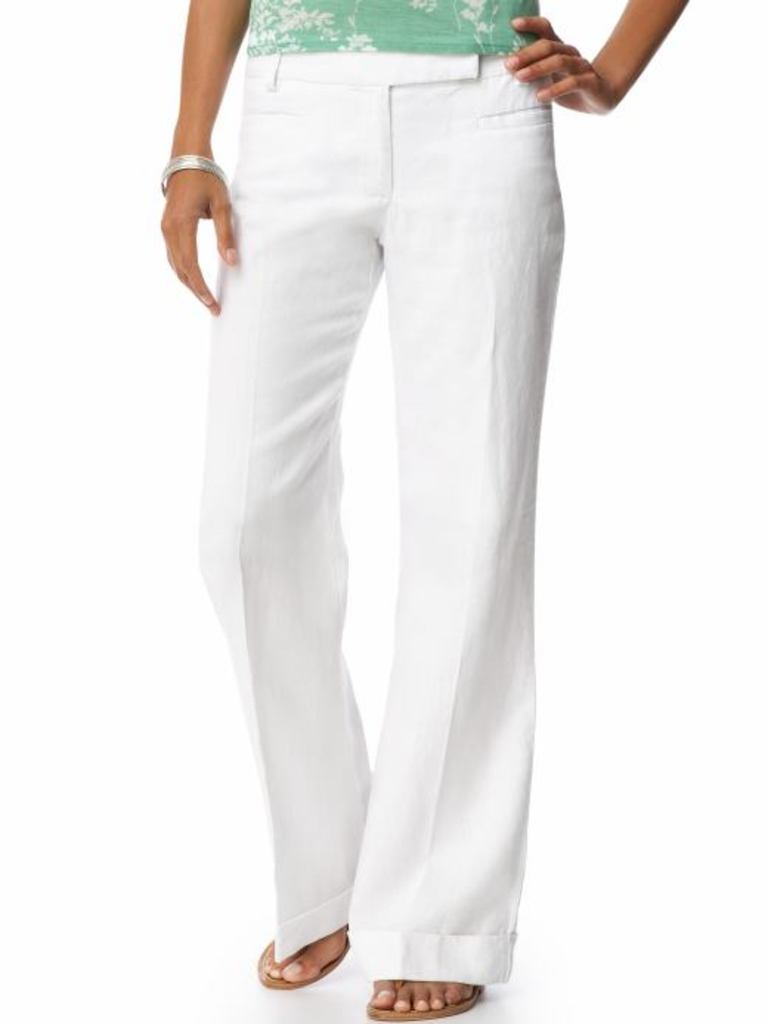Person: (159, 0, 689, 1022)
